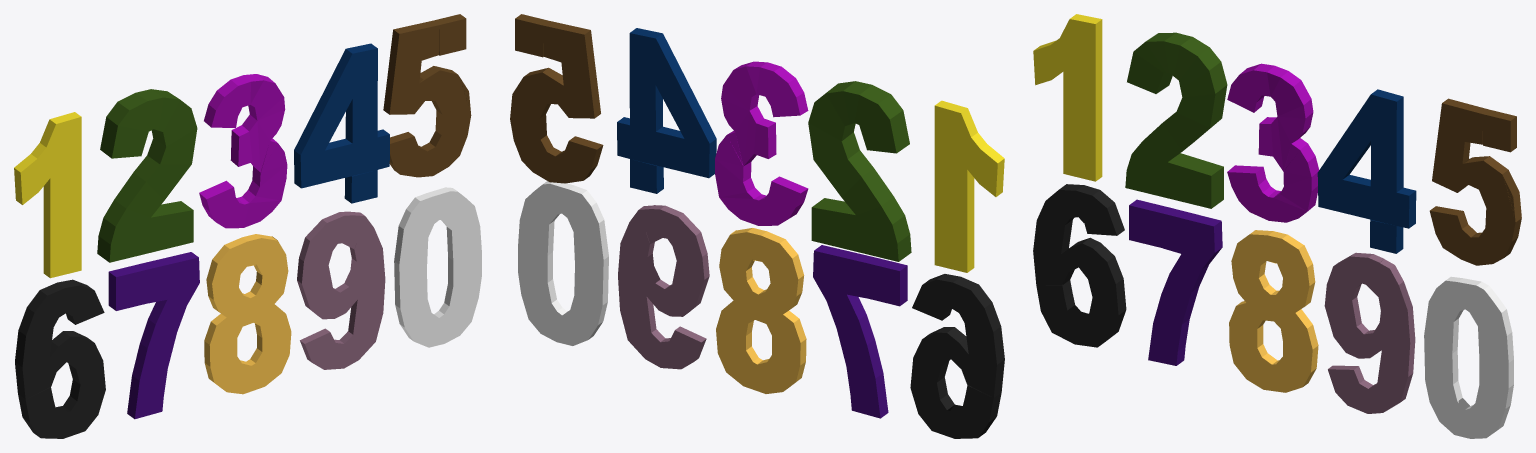
File: Tal.fbx
The picture shows the model from 3 angles, left to right: view 1: azimuth 30°, elevation 25°; view 2: azimuth 150°, elevation 25°; view 3: azimuth 330°, elevation 25°; orthographic projection. The views are drawn at different scales.
Visible parts, largest first — view 1: 2, 6, 8, 0, 9, 5, 4, 3, 7, 1; view 2: 2, 6, 8, 0, 5, 9, 4, 3, 7, 1; view 3: 2, 6, 8, 0, 5, 9, 4, 3, 7, 1.
Boxes of the visible parts, x1,y1,x2,y2 form: 2: (97,89,197,262); 6: (15,279,105,438); 8: (204,234,291,394); 0: (394,187,481,347); 9: (297,211,385,369); 5: (383,14,471,177); 4: (294,43,389,203); 3: (199,74,287,228); 7: (108,252,199,419); 1: (14,112,81,278); 2: (808,81,911,261); 6: (910,274,1004,438); 8: (716,228,806,393); 0: (518,181,608,345); 5: (510,14,603,183); 9: (618,205,709,369); 4: (617,28,716,193); 3: (715,61,808,225); 7: (813,245,907,418); 1: (934,100,1004,272); 2: (1125,32,1227,208); 6: (1033,184,1126,347); 8: (1229,230,1318,392); 0: (1424,276,1513,438); 5: (1429,98,1521,265); 9: (1324,252,1415,413); 4: (1317,89,1416,253); 3: (1227,63,1318,222); 7: (1129,199,1222,365); 1: (1033,14,1102,181).
Size of the model in its own units: 3704 by 2433 by 244.
